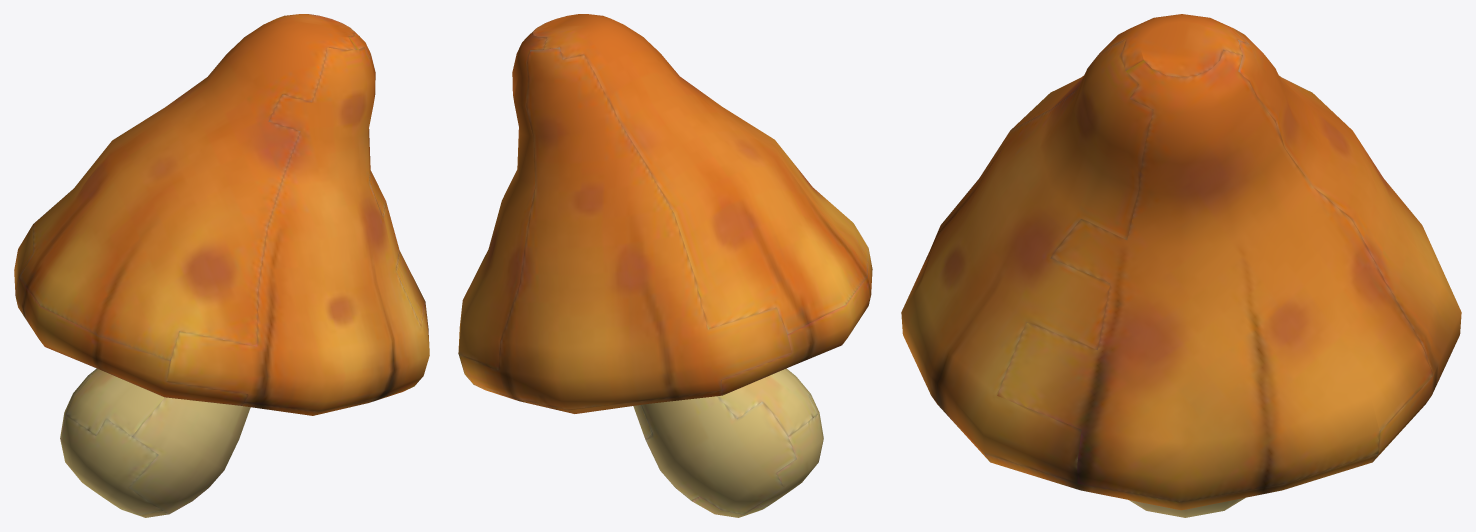
Rendered from Mushroom.obj.
The picture shows the model from 3 angles, left to right: view 1: azimuth 30°, elevation 25°; view 2: azimuth 150°, elevation 25°; view 3: azimuth 270°, elevation 25°; orthographic projection. The views are drawn at different scales.
Parts seen in each view (by area): view 1: Plane.007; view 2: Plane.007; view 3: Plane.007.
Boxes of the visible parts, x1,y1,x2,y2 form: Plane.007: (14,14,429,517); Plane.007: (458,14,872,517); Plane.007: (901,14,1461,517).
Bounding box in the file's own units: 0.6223 × 0.723 × 0.6293.
1 material, 1 textured.
